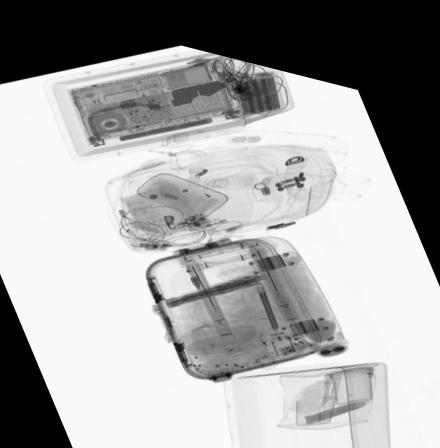Lighter: (186, 204, 230, 225)
